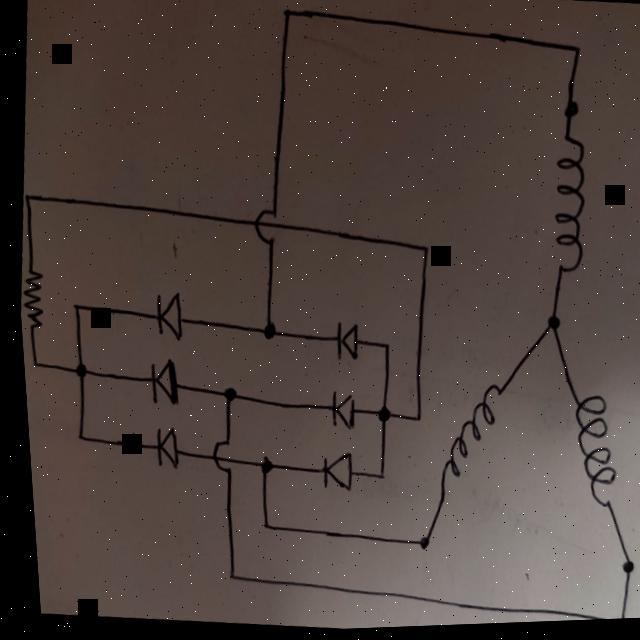crossover: (249, 208, 278, 251), (203, 438, 230, 478)
diode: (141, 360, 178, 407), (147, 293, 182, 342), (313, 452, 349, 496), (322, 393, 355, 434), (145, 429, 176, 471), (327, 324, 357, 366)
inductor: (430, 386, 500, 500), (542, 137, 593, 282), (560, 399, 618, 514)
junction: (367, 405, 389, 430), (539, 316, 559, 340), (251, 456, 268, 481), (216, 386, 233, 410), (277, 5, 295, 27), (256, 322, 274, 343), (413, 242, 431, 263), (561, 103, 578, 125), (611, 562, 630, 581), (216, 567, 234, 587), (567, 46, 584, 66), (408, 536, 425, 555), (69, 363, 86, 382), (251, 517, 268, 536), (67, 427, 83, 447), (65, 298, 80, 317), (20, 188, 34, 208), (405, 410, 419, 429), (24, 355, 38, 373), (375, 342, 387, 357), (369, 471, 381, 486), (604, 615, 621, 623)
resistor: (14, 266, 44, 335)
